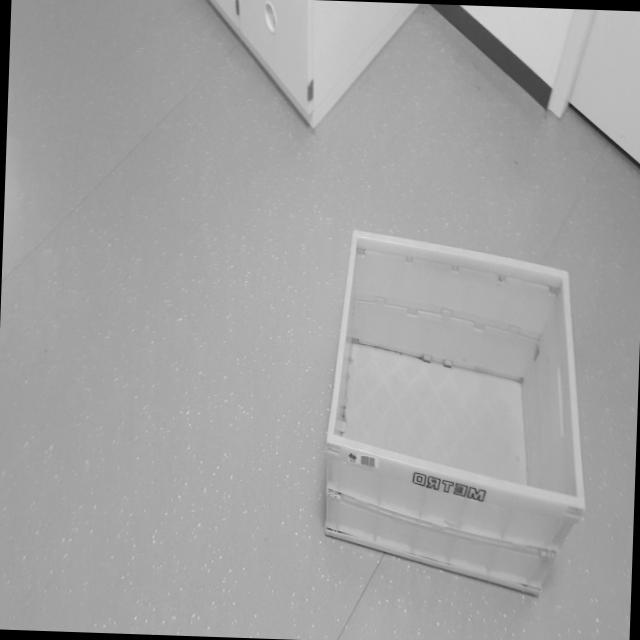box: (308, 220, 606, 600)
